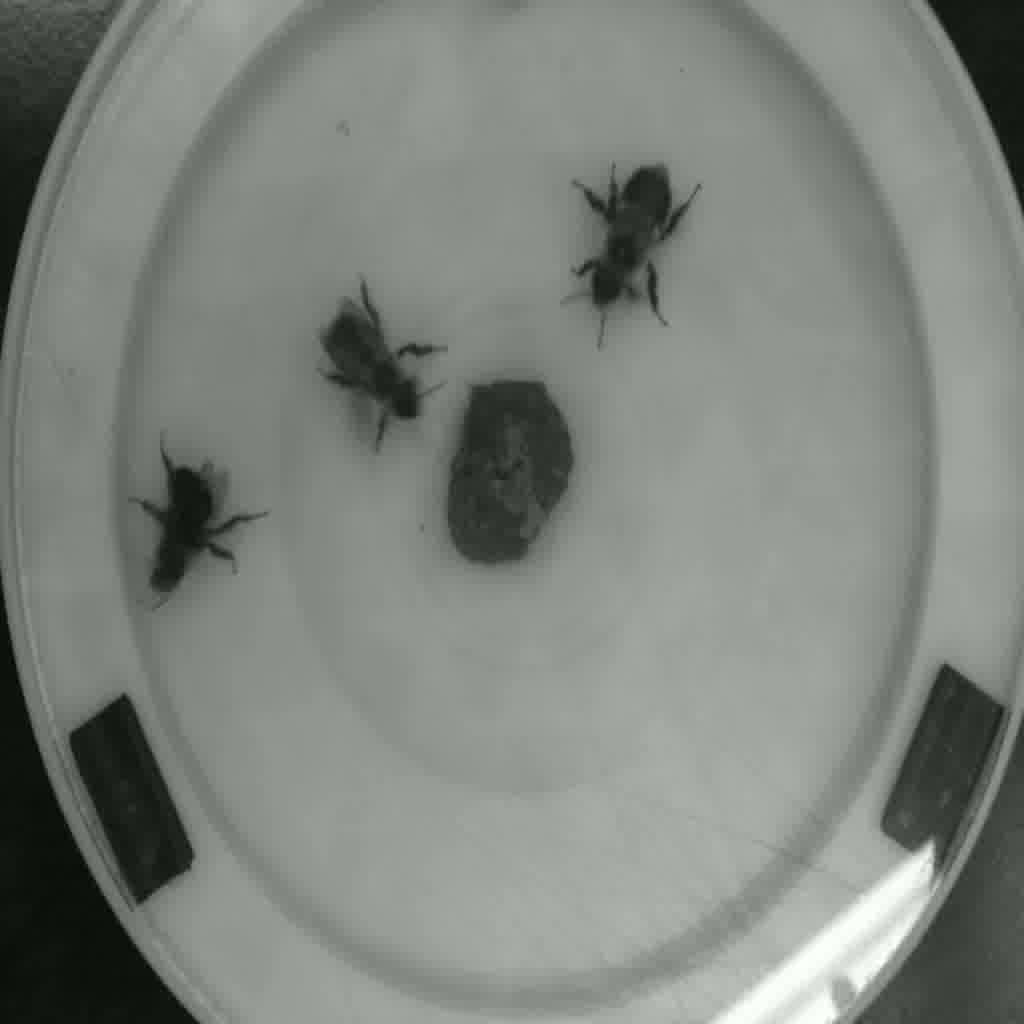bee: (580, 136, 684, 344), (107, 458, 226, 624), (312, 310, 449, 439)
